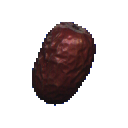gd: (19, 18, 100, 111)
